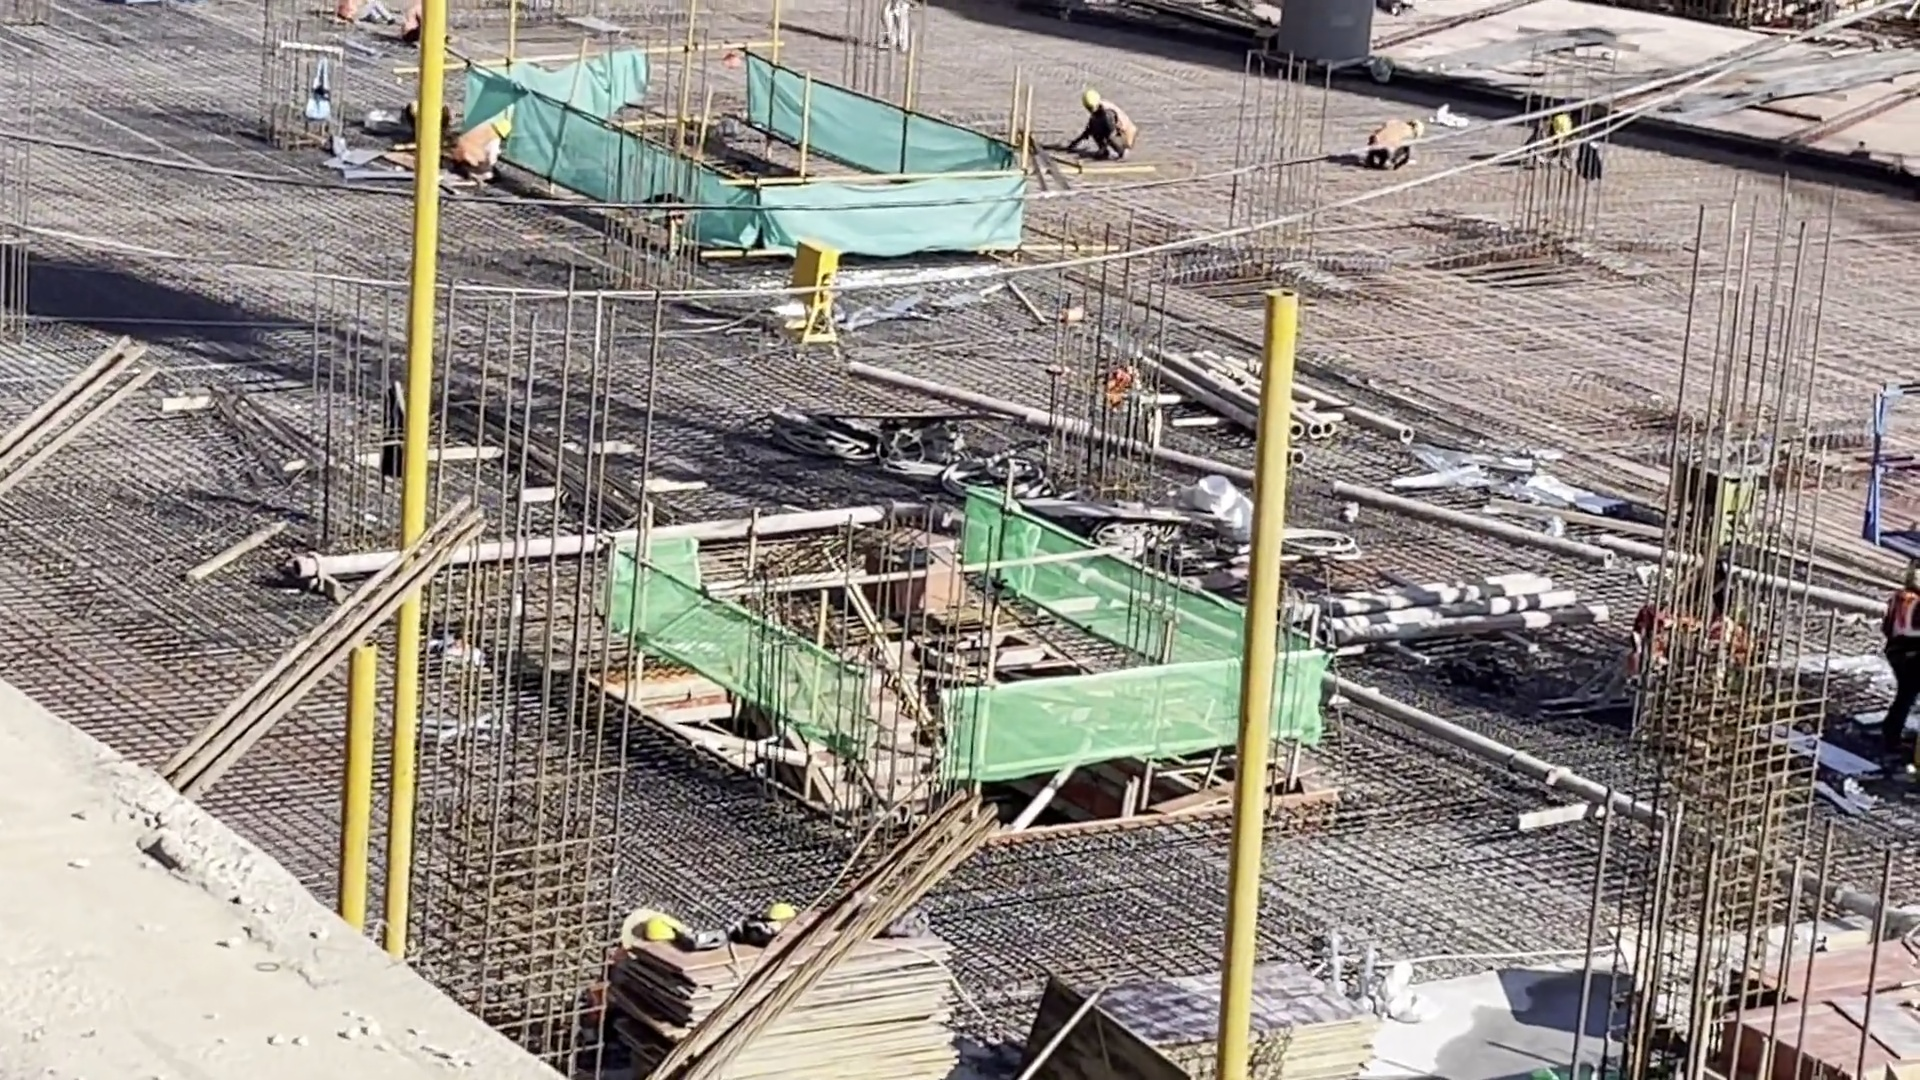board: (621, 929, 951, 1069), (1103, 983, 1370, 1080)
ebox: (798, 242, 831, 354)
helmet: (494, 119, 512, 139), (1081, 88, 1100, 106), (1557, 114, 1569, 135)
person: (1884, 563, 1920, 731), (1082, 91, 1139, 162), (459, 119, 516, 180), (1371, 120, 1423, 165)
vest: (1890, 587, 1920, 641), (459, 124, 497, 160), (1373, 120, 1409, 156), (1109, 107, 1139, 146)
